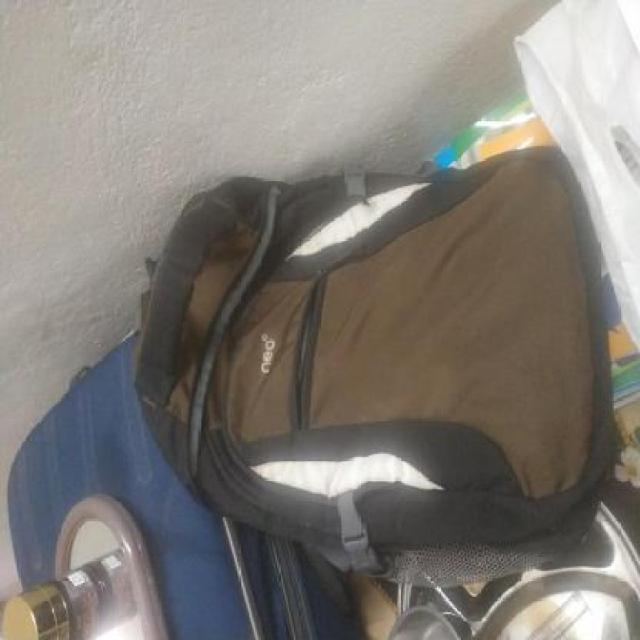backpack: (126, 140, 622, 594)
